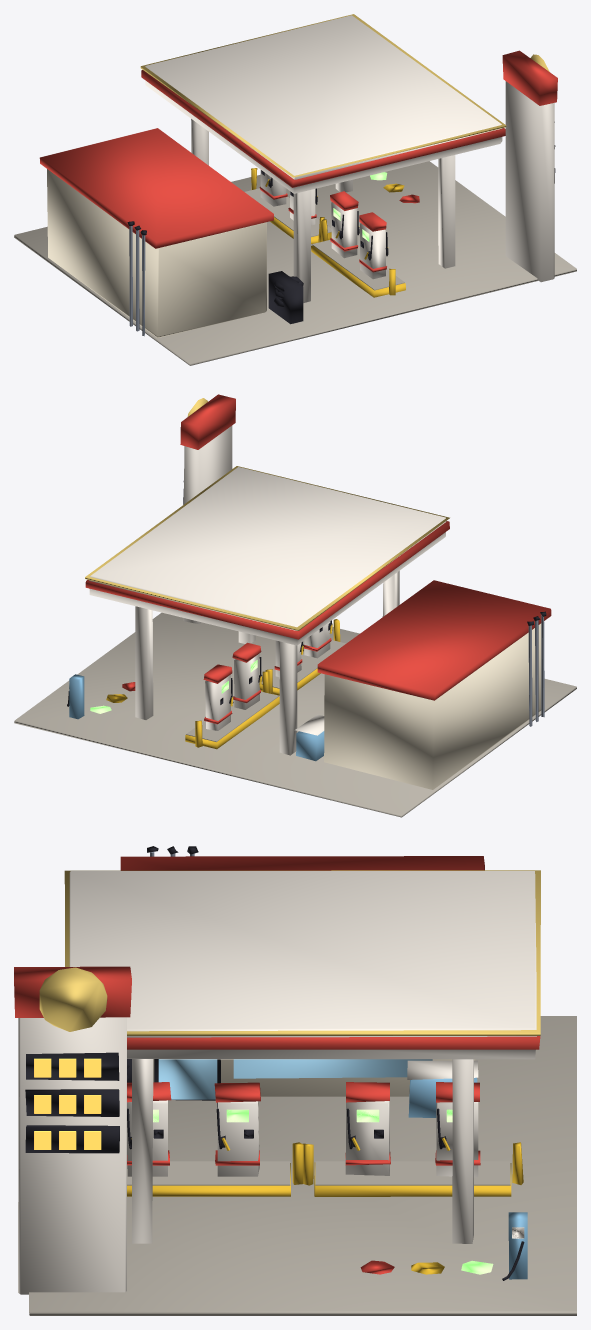
The model's file is gas_station.glb.
3 views of the same model, one above another, from view 1: azimuth 30°, elevation 25°; view 2: azimuth 150°, elevation 25°; view 3: azimuth 270°, elevation 25° (orthographic). The views are drawn at different scales.
Parts seen in each view (by area): view 1: gas_station; view 2: gas_station; view 3: gas_station.
Boxes of the visible parts, x1,y1,x2,y2 form: gas_station: (14,14,576,365); gas_station: (14,394,576,817); gas_station: (14,846,576,1315).
Bounding box in the file's own units: 14.31 × 7.29 × 11.25.
Materials: 1 (1 with a texture image).
